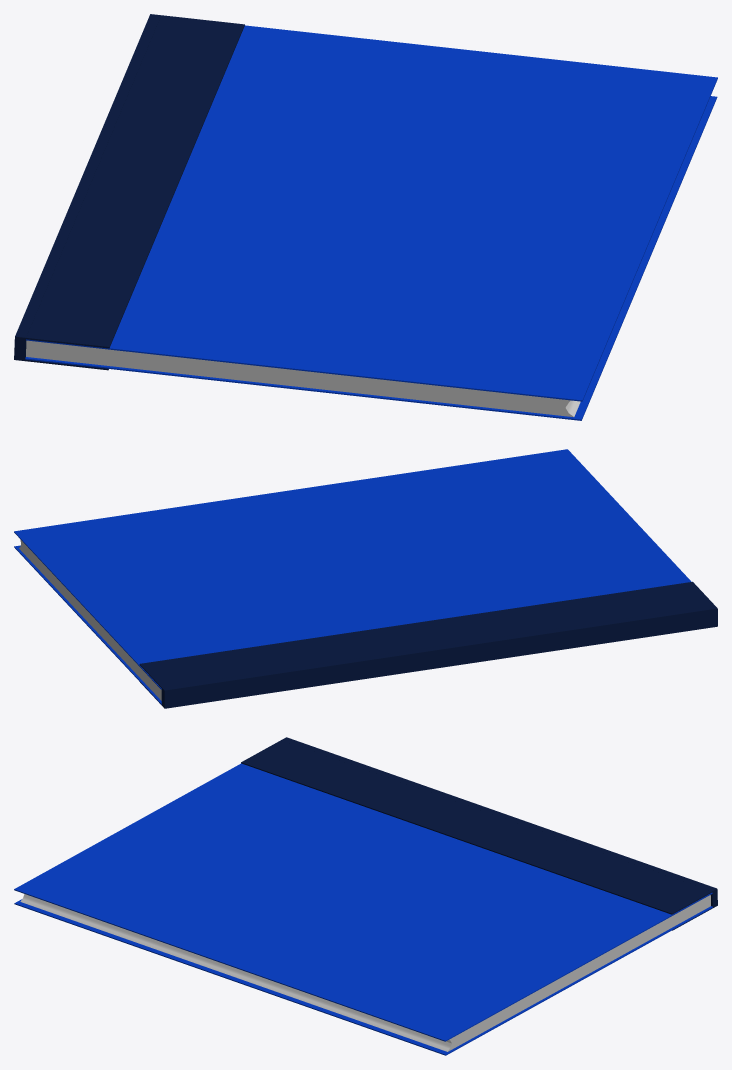
Rendered from bookboy.fbx.
The picture shows the model from 3 angles, top to bottom: view 1: azimuth 30°, elevation 25°; view 2: azimuth 150°, elevation 25°; view 3: azimuth 270°, elevation 25°; orthographic projection. The views are drawn at different scales.
Visible parts, largest first — view 1: polySurface45; view 2: polySurface45; view 3: polySurface45.
Part boxes in pixels (<box>): polySurface45: <box>14,14,717,420</box>; polySurface45: <box>14,449,717,708</box>; polySurface45: <box>14,737,717,1055</box>.
Bounding box in the file's own units: 12.26 × 0.6436 × 12.55.
